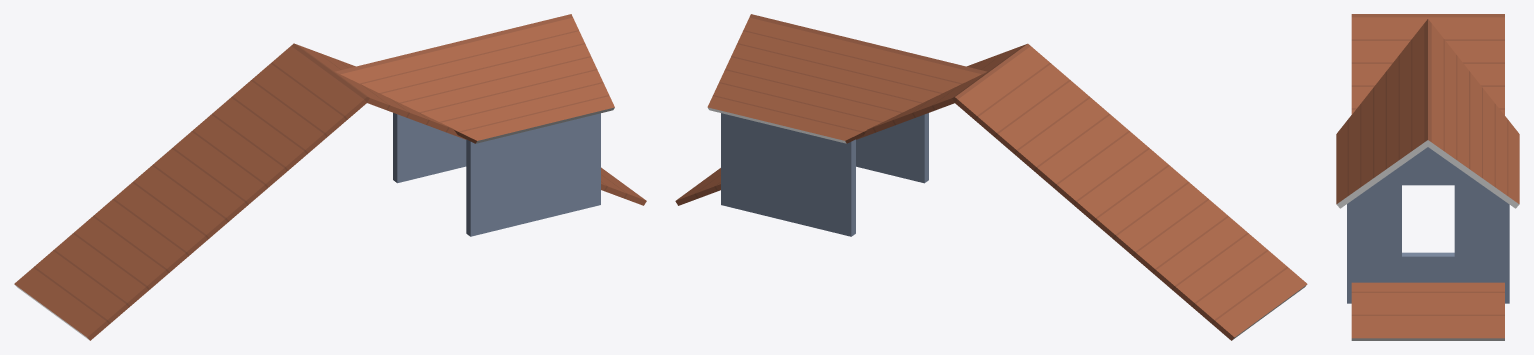
The model's file is Roof4_C5_06.fbx.
The picture shows the model from 3 angles, left to right: view 1: azimuth 30°, elevation 25°; view 2: azimuth 150°, elevation 25°; view 3: azimuth 270°, elevation 25°; orthographic projection. The views are drawn at different scales.
Visible parts, largest first — view 1: Roof4_C5_06; view 2: Roof4_C5_06; view 3: Roof4_C5_06.
Boxes of the visible parts, x1,y1,x2,y2 form: Roof4_C5_06: (14, 14, 646, 340); Roof4_C5_06: (675, 14, 1307, 340); Roof4_C5_06: (1336, 14, 1519, 340).
Bounding box in the file's own units: 1105 × 333 × 298.
